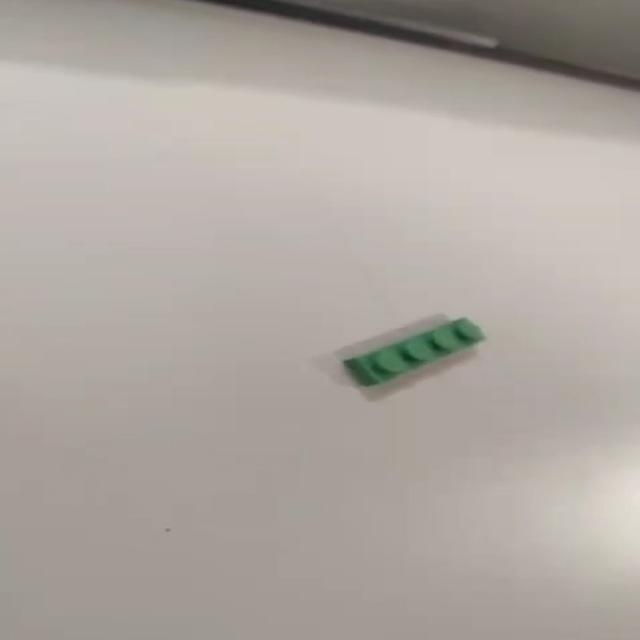C4x1x0: (328, 311, 488, 394)
